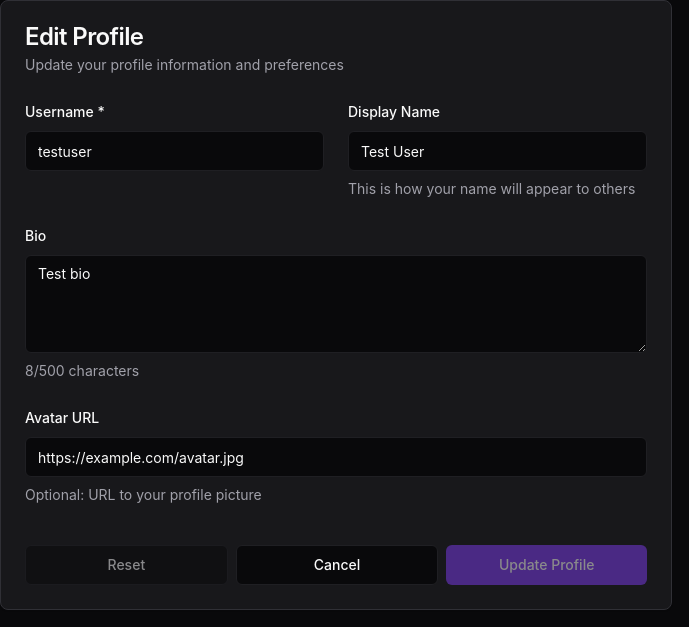
Scenario: UserProfileForm › resets form data when reset button is clicked
Replace the text in the field showing "testuser" with "changeduser" at (174, 151), box x1=25 y1=131 x2=324 y2=171
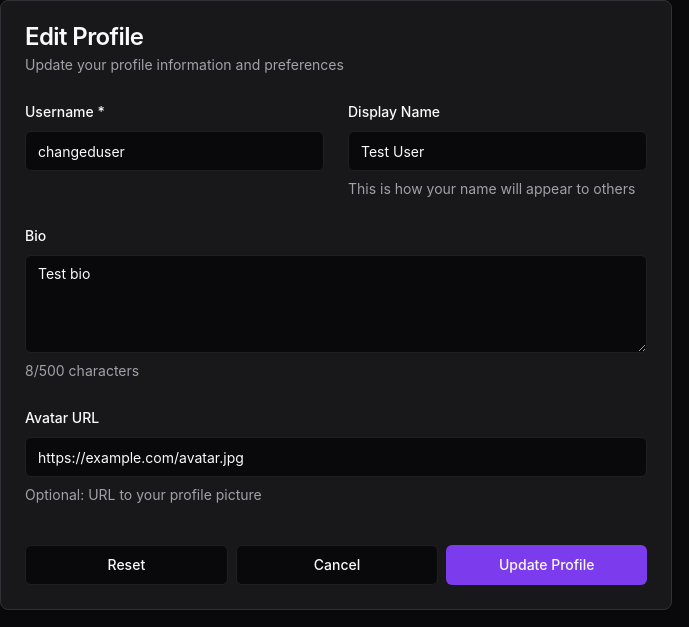
Replace the text in the text box showing "Test bio" with "Changed bio" at (336, 304), box x1=25 y1=255 x2=647 y2=353
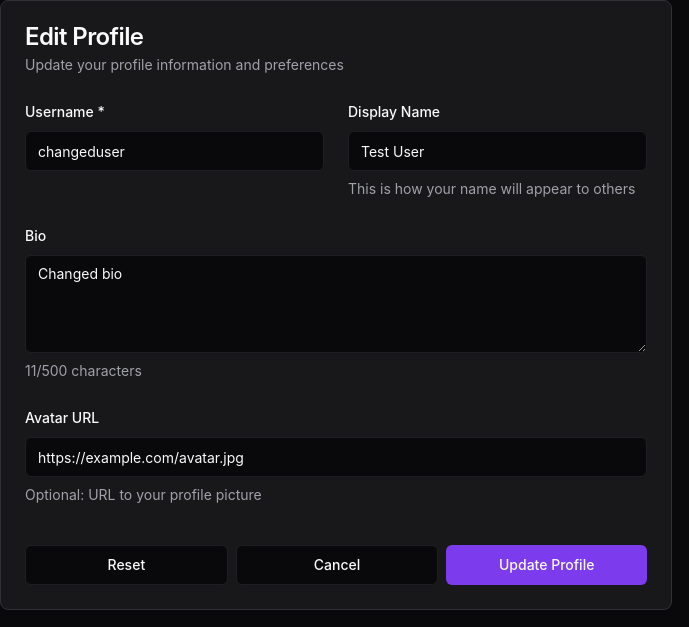
// Click reset
Click the button "Reset" at (126, 565), box x1=25 y1=545 x2=228 y2=585
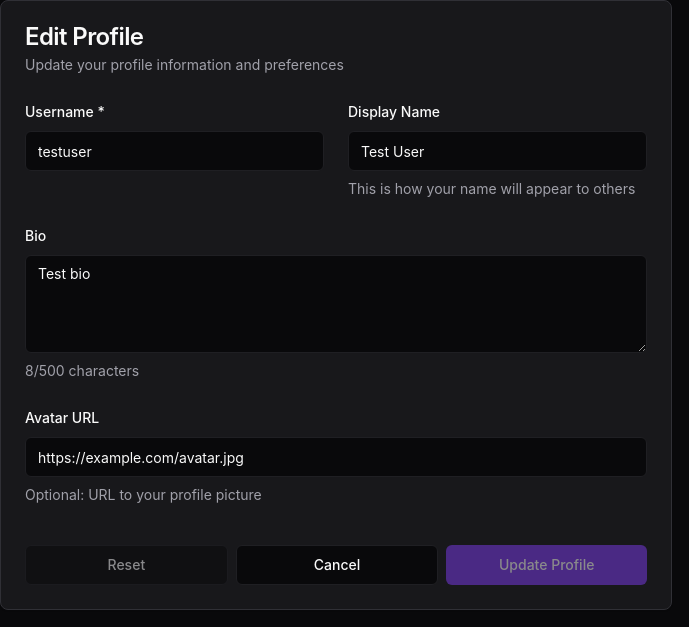
expect the field showing "testuser" is shown: met, box x1=25 y1=131 x2=324 y2=171
expect the text box showing "Test bio" is shown: met, box x1=25 y1=255 x2=647 y2=353
